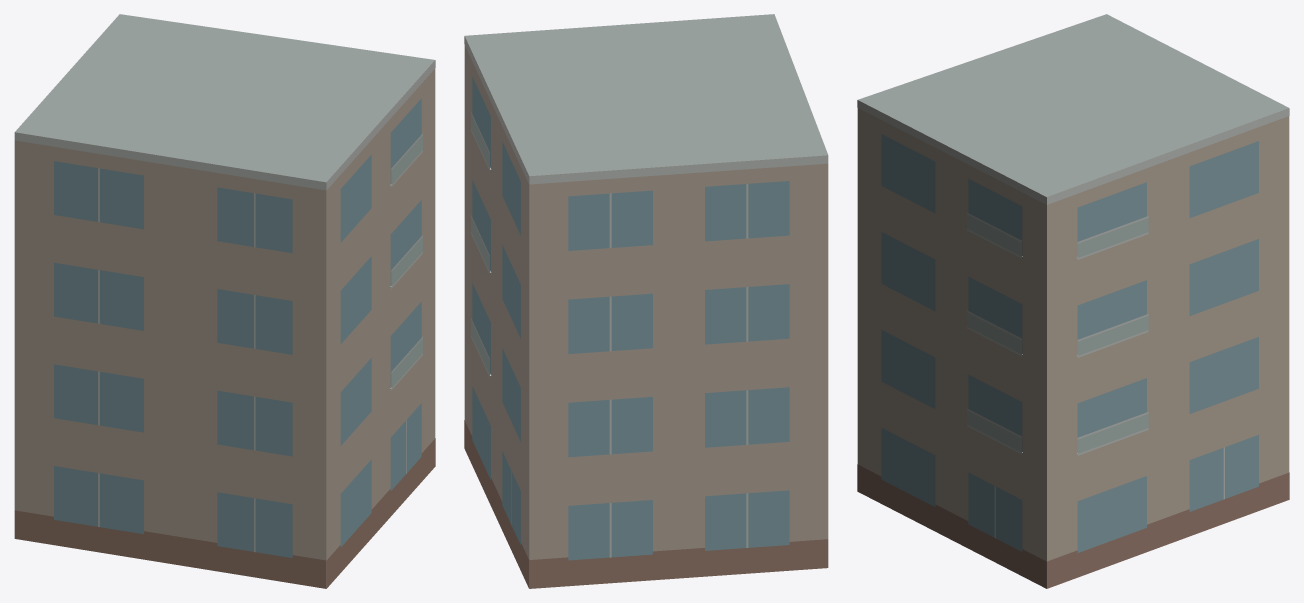
Rendered from survey-upis-32844024.glb.
The picture shows the model from 3 angles, left to right: view 1: azimuth 30°, elevation 25°; view 2: azimuth 150°, elevation 25°; view 3: azimuth 270°, elevation 25°; orthographic projection. The views are drawn at different scales.
Visible parts, largest first — view 1: survey-upis-32844024.tmp; view 2: survey-upis-32844024.tmp; view 3: survey-upis-32844024.tmp.
Part boxes in pixels (x1,y1,x2,y2): survey-upis-32844024.tmp: (14, 14, 435, 588); survey-upis-32844024.tmp: (464, 14, 828, 588); survey-upis-32844024.tmp: (857, 14, 1289, 588).
Bounding box in the file's own units: 12.25 × 12.2 × 12.2.
